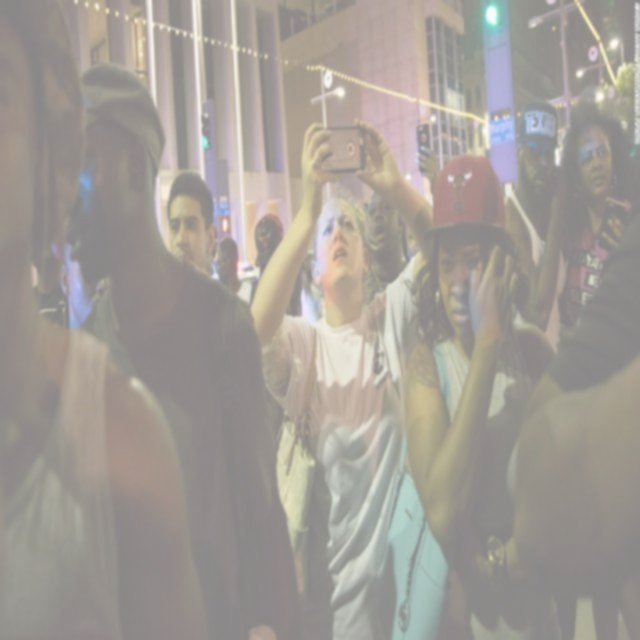pessoa: (61, 56, 306, 639), (247, 114, 442, 638), (64, 55, 218, 639), (401, 150, 558, 638), (502, 354, 640, 572), (554, 97, 640, 330), (502, 94, 570, 360), (216, 206, 312, 315), (358, 187, 438, 301), (37, 232, 110, 344), (166, 170, 216, 282), (412, 114, 442, 188)
